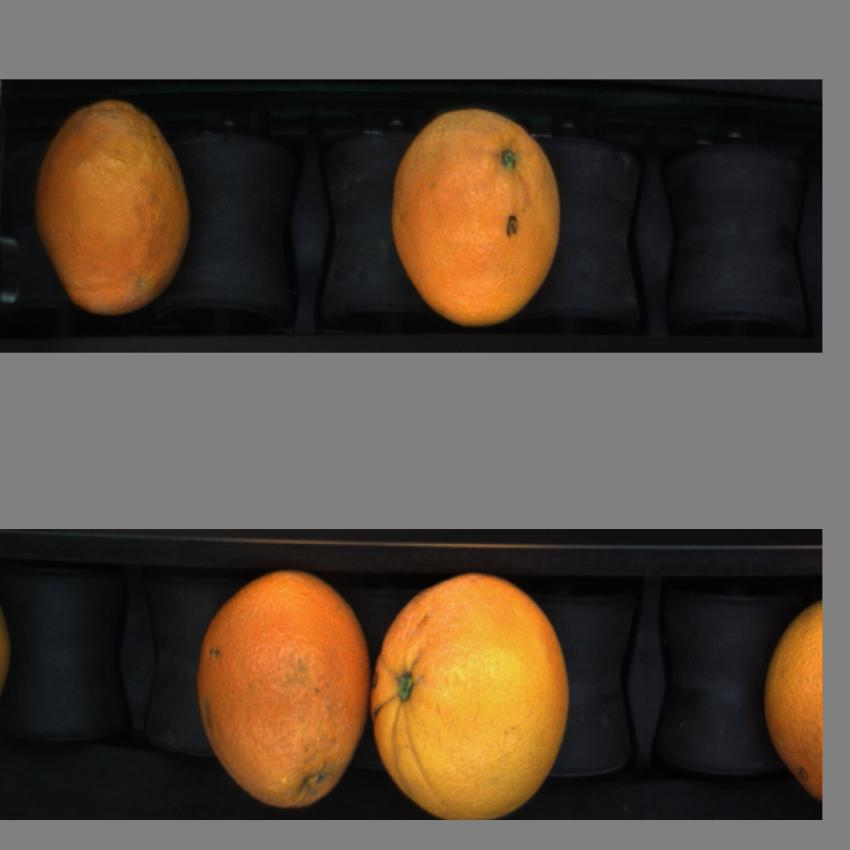Buen estado: (368, 578, 590, 806), (373, 103, 585, 333), (188, 553, 368, 811), (756, 588, 823, 802)
Mal estado: (28, 96, 203, 317)
